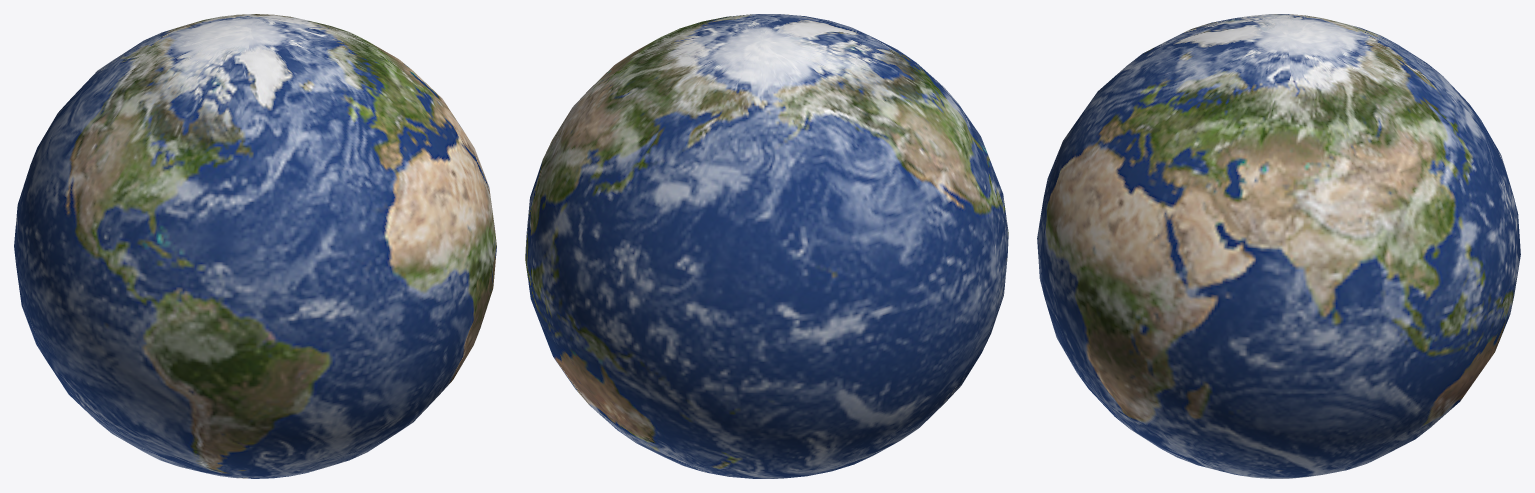
File: Earth.glb
3 views of the same model, side by side, from view 1: azimuth 30°, elevation 25°; view 2: azimuth 150°, elevation 25°; view 3: azimuth 270°, elevation 25° (orthographic).
Parts seen in each view (by area): view 1: earth; view 2: earth; view 3: earth.
Boxes of the visible parts, x1,y1,x2,y2 form: earth: (14, 14, 496, 478); earth: (525, 14, 1008, 478); earth: (1037, 14, 1520, 478).
Bounding box in the file's own units: 12.77 × 12.18 × 12.76.
1 material, 1 textured.
